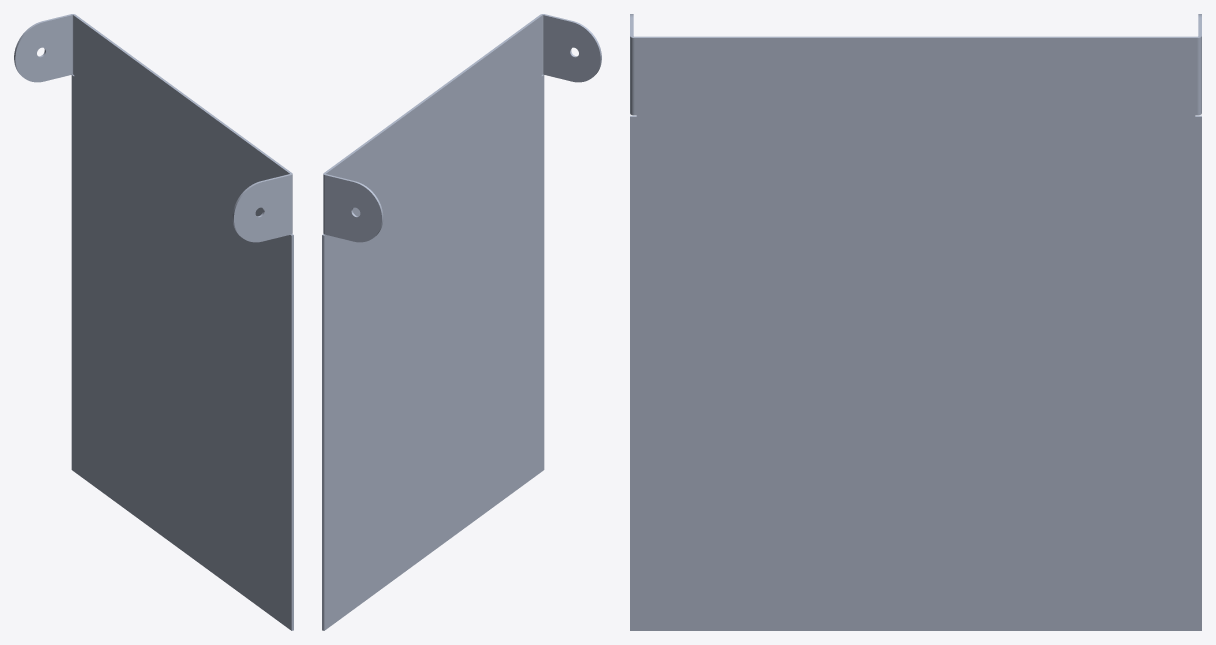
Rendered from _2025_Hopper_Hatch_R4.obj.
3 views of the same model, side by side, from view 1: azimuth 30°, elevation 25°; view 2: azimuth 150°, elevation 25°; view 3: azimuth 270°, elevation 25° (orthographic). The views are drawn at different scales.
Parts seen in each view (by area): view 1: mesh1351, mesh1335, mesh1362, mesh1348, mesh1342; view 2: mesh1351, mesh1363, mesh1332, mesh1346, mesh1342; view 3: mesh1352, mesh1342.
Boxes of the visible parts, x1,y1,x2,y2 form: mesh1351: (71,15,291,630); mesh1335: (15,15,72,82); mesh1362: (234,175,290,242); mesh1348: (291,235,293,630); mesh1342: (74,15,291,173); mesh1351: (324,15,544,630); mesh1363: (543,15,600,82); mesh1332: (325,175,381,242); mesh1346: (322,235,324,630); mesh1342: (324,15,541,173); mesh1352: (630,38,1201,630); mesh1342: (635,36,1196,37).
Bounding box in the file's own units: 0.0536 × 0.3891 × 0.34.
